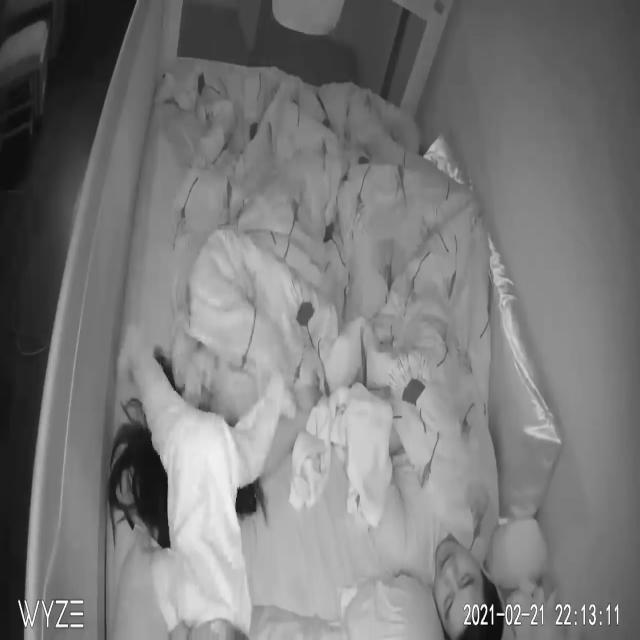baby: (118, 330, 293, 639)
